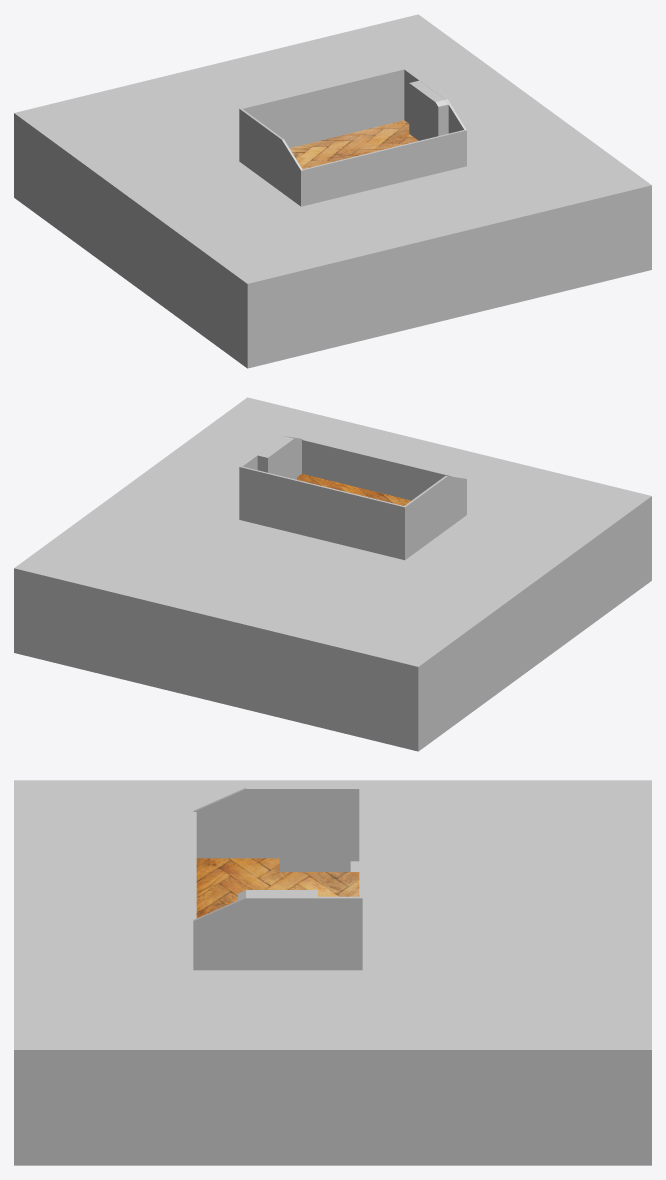
The model's file is Room.FBX.
3 renders of one model, top to bottom at view 1: azimuth 30°, elevation 25°; view 2: azimuth 150°, elevation 25°; view 3: azimuth 270°, elevation 25°, orthographic. The views are drawn at different scales.
Visible parts, largest first — view 1: ground, back wall, back wall004, back wall002, floor, back wall003, back wall001; view 2: ground, back wall, back wall004, back wall002, back wall003, floor, back wall001; view 3: ground, back wall001, back wall002, floor, back wall003.
Part boxes in pixels (box(x1,y1,x2,y2)): ground: box(14, 14, 651, 368); back wall: box(241, 68, 404, 148); back wall004: box(303, 130, 464, 205); back wall002: box(239, 108, 303, 206); floor: box(290, 120, 418, 169); back wall003: box(409, 80, 448, 140); back wall001: box(403, 68, 466, 166); ground: box(14, 397, 651, 751); back wall: box(241, 466, 403, 559); back wall004: box(302, 439, 462, 500); back wall002: box(403, 476, 466, 560); back wall003: box(257, 436, 296, 479); floor: box(297, 474, 411, 505); back wall001: box(239, 436, 302, 519); ground: box(14, 780, 651, 1165); back wall001: box(193, 896, 362, 970); back wall002: box(193, 787, 362, 861); floor: box(196, 858, 359, 918); back wall003: box(238, 890, 317, 900).
Size of the model in its own units: 20 by 6.5 by 20.
